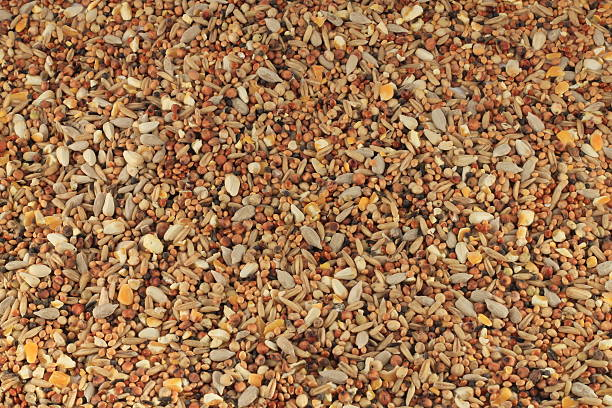seed: (1, 1, 612, 408)
